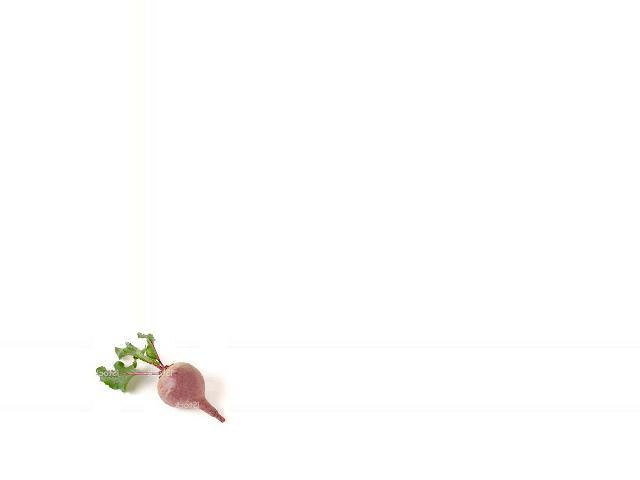beet: (95, 332, 224, 422)
